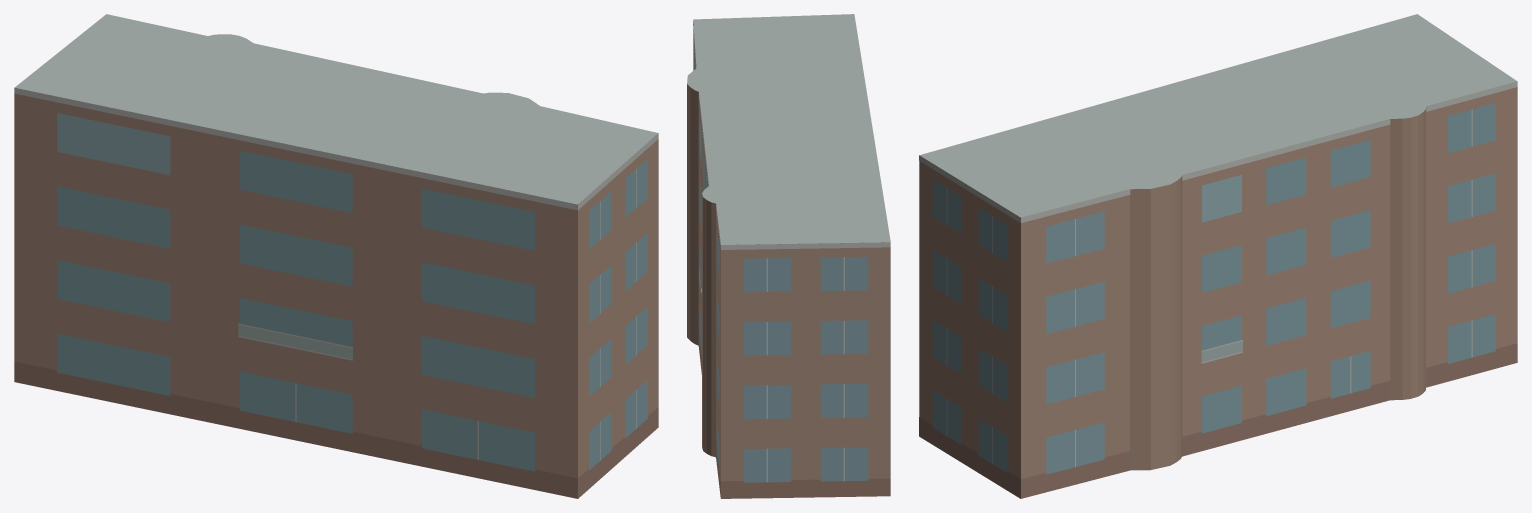
Rendered from survey-upis-32991760.glb.
The picture shows the model from 3 angles, left to right: view 1: azimuth 30°, elevation 25°; view 2: azimuth 150°, elevation 25°; view 3: azimuth 270°, elevation 25°; orthographic projection. The views are drawn at different scales.
Parts seen in each view (by area): view 1: survey-upis-32991760.tmp; view 2: survey-upis-32991760.tmp; view 3: survey-upis-32991760.tmp.
Boxes of the visible parts, left/top/right/bottom form: survey-upis-32991760.tmp: left=14, top=14, right=658, bottom=498; survey-upis-32991760.tmp: left=687, top=14, right=890, bottom=498; survey-upis-32991760.tmp: left=919, top=14, right=1517, bottom=498.
Bounding box in the file's own units: 19.1 × 12.3 × 23.73.
